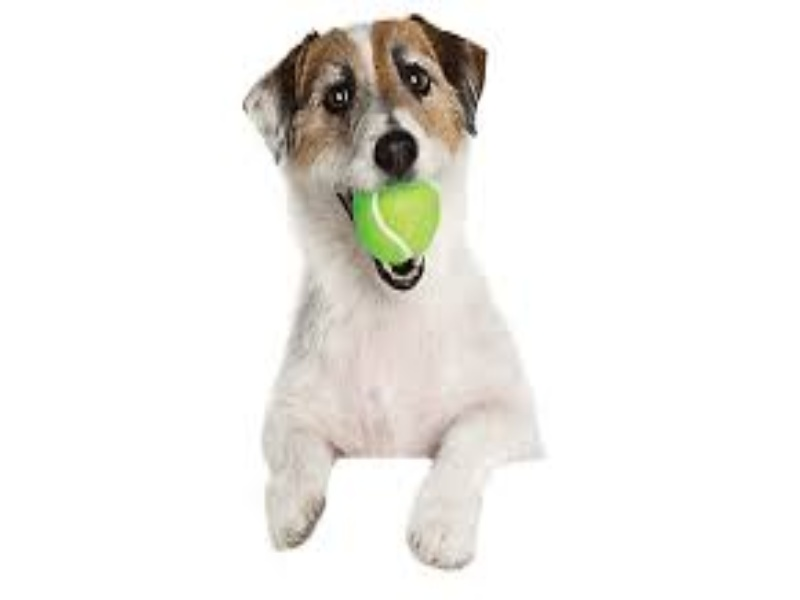dog: (183, 7, 573, 582)
